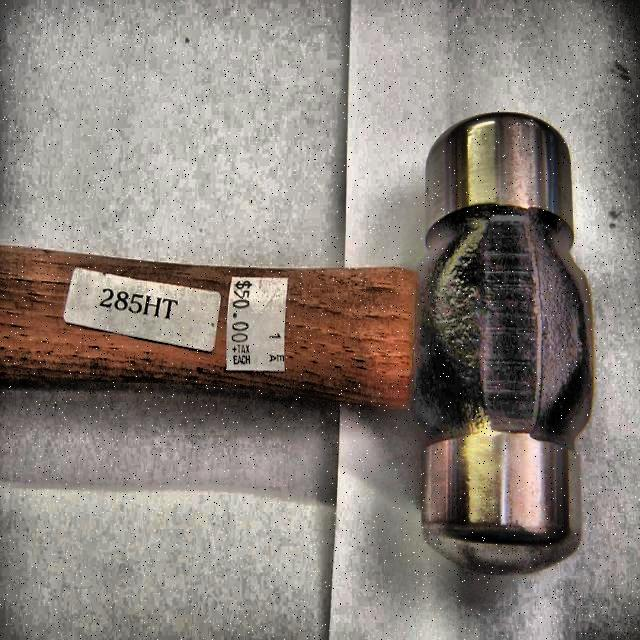hammer: (0, 109, 599, 577)
